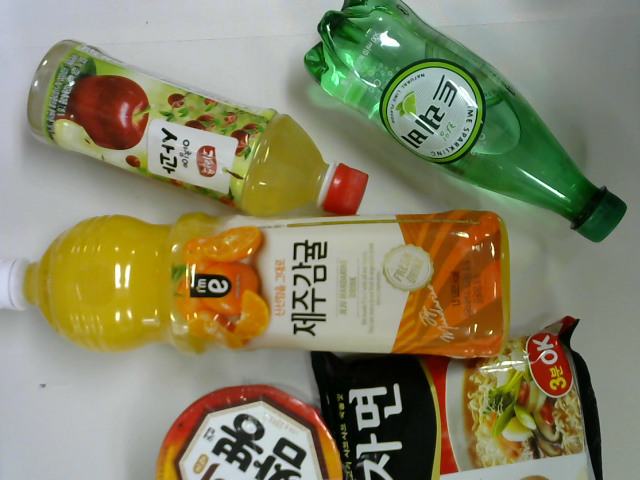Jeju_Tangerine_1.5L: (1, 207, 510, 359)
Morning_Apple_500ml: (26, 39, 368, 219)
Ojjam: (153, 379, 346, 480)
Potato: (310, 315, 608, 480)
Treviraim_500ml: (303, 1, 626, 245)
